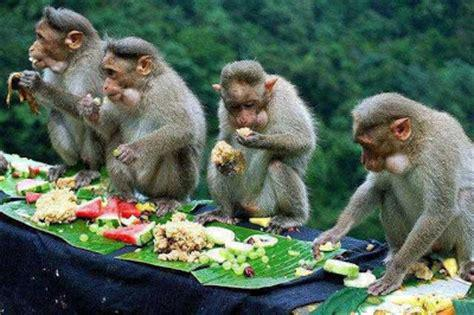monkey: (312, 94, 474, 296), (79, 38, 206, 211), (195, 61, 316, 234), (18, 10, 104, 186)
